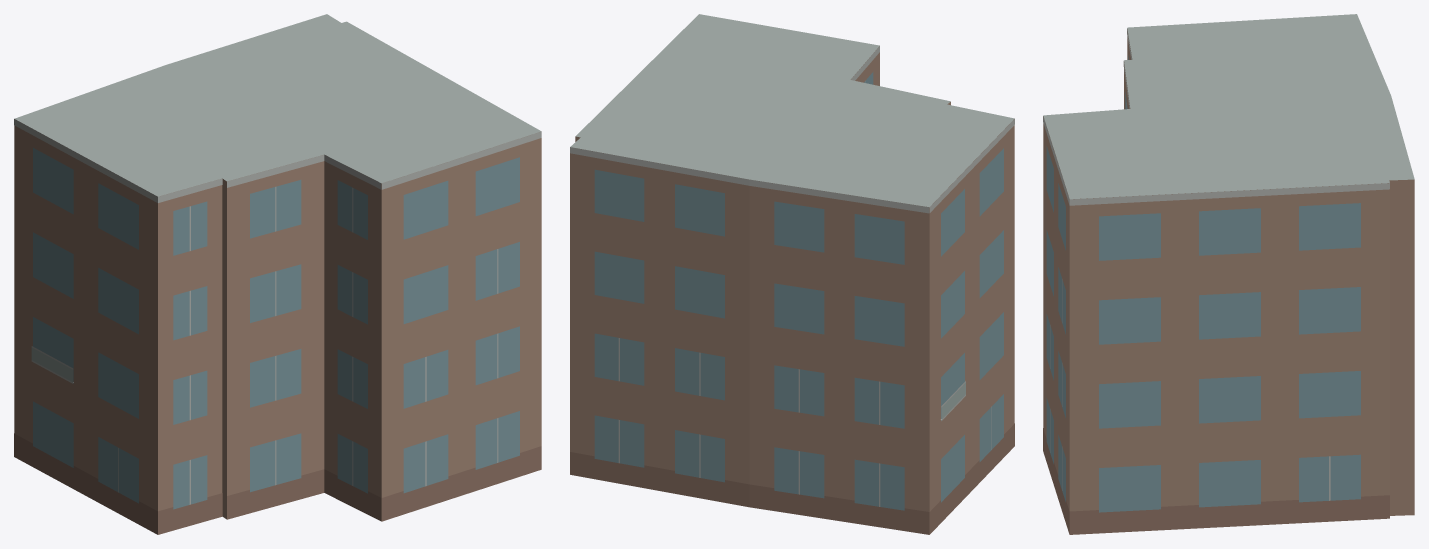
Rendered from survey-upis-32615016.glb.
The picture shows the model from 3 angles, left to right: view 1: azimuth 30°, elevation 25°; view 2: azimuth 150°, elevation 25°; view 3: azimuth 270°, elevation 25°; orthographic projection. The views are drawn at different scales.
Parts seen in each view (by area): view 1: survey-upis-32615016.tmp; view 2: survey-upis-32615016.tmp; view 3: survey-upis-32615016.tmp.
Part boxes in pixels (bbox=[...]): survey-upis-32615016.tmp: bbox=[14, 14, 541, 534]; survey-upis-32615016.tmp: bbox=[570, 14, 1014, 534]; survey-upis-32615016.tmp: bbox=[1043, 14, 1414, 534].
Bounding box in the file's own units: 15.05 × 12.7 × 12.76.
